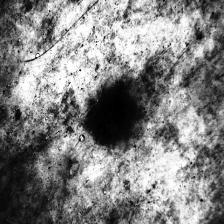Benign Marking or Mole: (86, 81, 138, 145)
